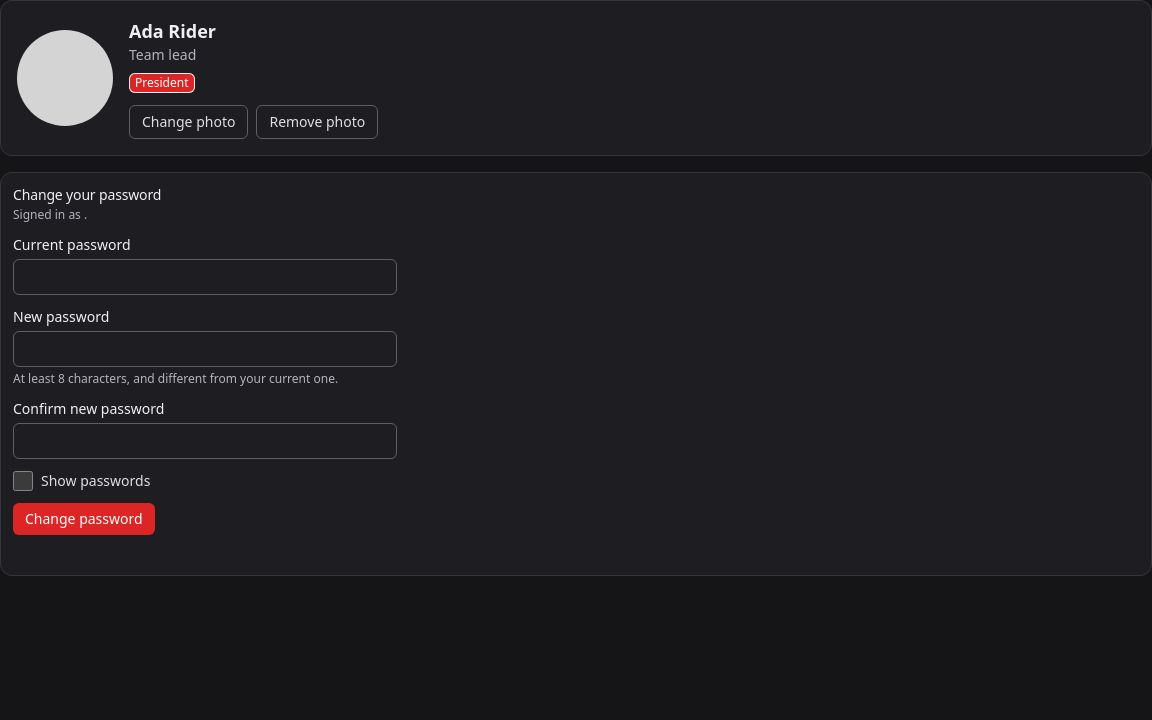
the picture › removes your photo and says so
Click the button "Remove photo" at (317, 122), box [256,105,378,139]
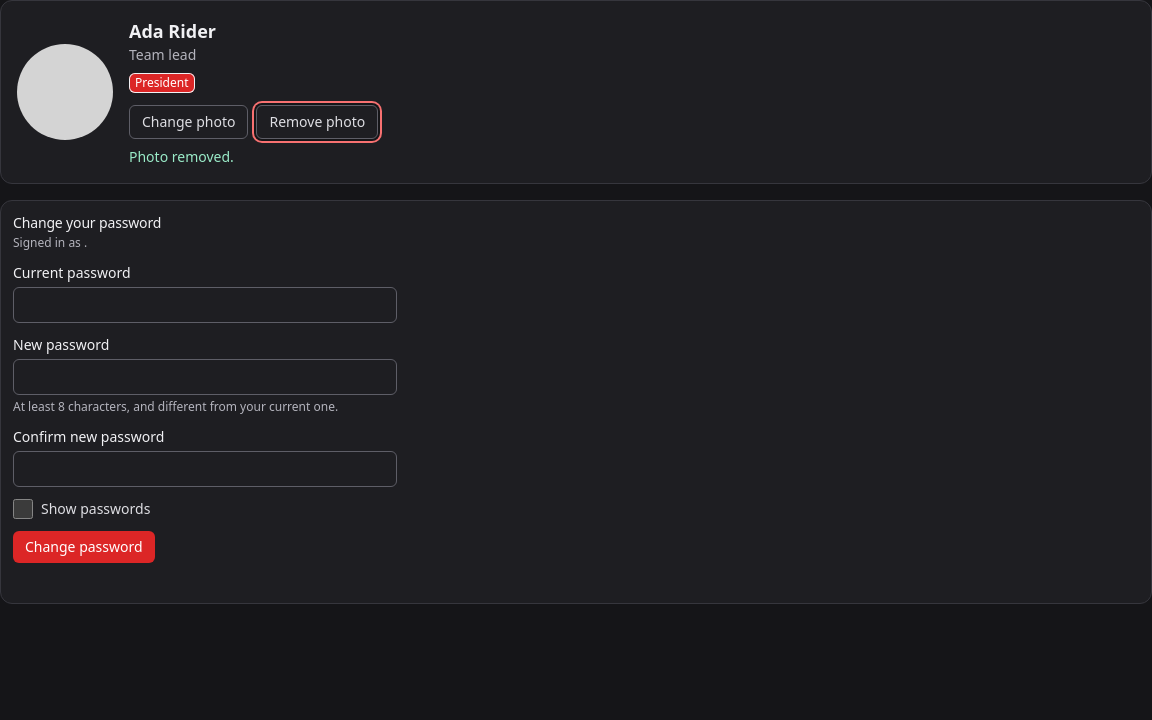
Expected: the message with test id "profile-photo-done" reads "Photo removed.", [129,147,234,166]
